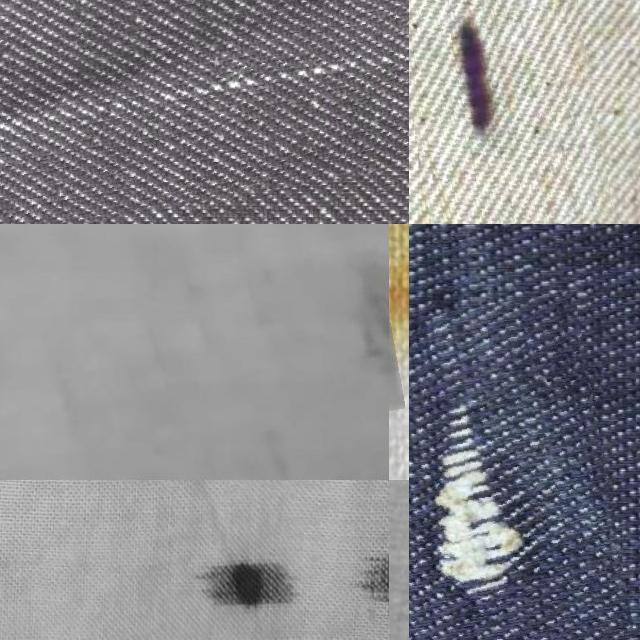Thread_other: (313, 224, 397, 416), (184, 537, 318, 637), (356, 524, 389, 630)
stains: (409, 298, 632, 640), (409, 0, 602, 224)
